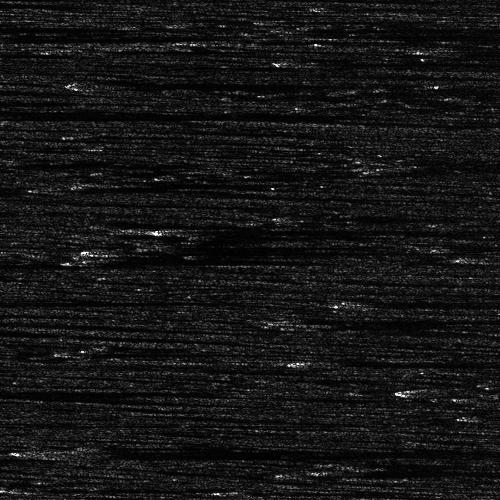rock: (11, 444, 126, 459), (109, 225, 202, 236), (260, 468, 343, 479), (27, 45, 110, 54), (276, 298, 359, 307), (38, 179, 131, 186), (47, 345, 100, 356), (433, 45, 500, 52), (439, 253, 500, 260), (324, 458, 377, 465), (264, 318, 327, 323), (254, 59, 317, 64), (53, 257, 94, 262), (427, 383, 458, 388), (0, 486, 30, 491), (101, 245, 122, 250), (487, 441, 500, 448), (492, 205, 500, 216), (296, 359, 307, 364)
shadow: (0, 91, 292, 136), (69, 444, 492, 459), (156, 225, 447, 236), (0, 256, 249, 267), (302, 468, 500, 479), (318, 298, 500, 307), (0, 387, 178, 396), (74, 345, 215, 356), (112, 245, 400, 250), (0, 297, 190, 304), (69, 45, 214, 54), (74, 257, 288, 262), (351, 458, 500, 465), (85, 179, 227, 186), (302, 359, 500, 364), (286, 59, 439, 64), (4, 486, 140, 491), (0, 395, 134, 400), (112, 80, 332, 83), (0, 22, 86, 27), (296, 318, 371, 323), (0, 36, 107, 39), (475, 45, 500, 52), (486, 253, 500, 260)
